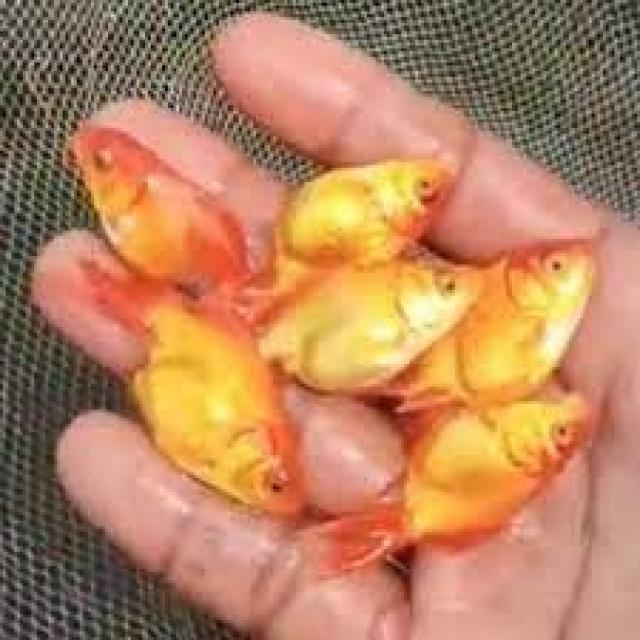Gold-Fish: (14, 82, 640, 608)
